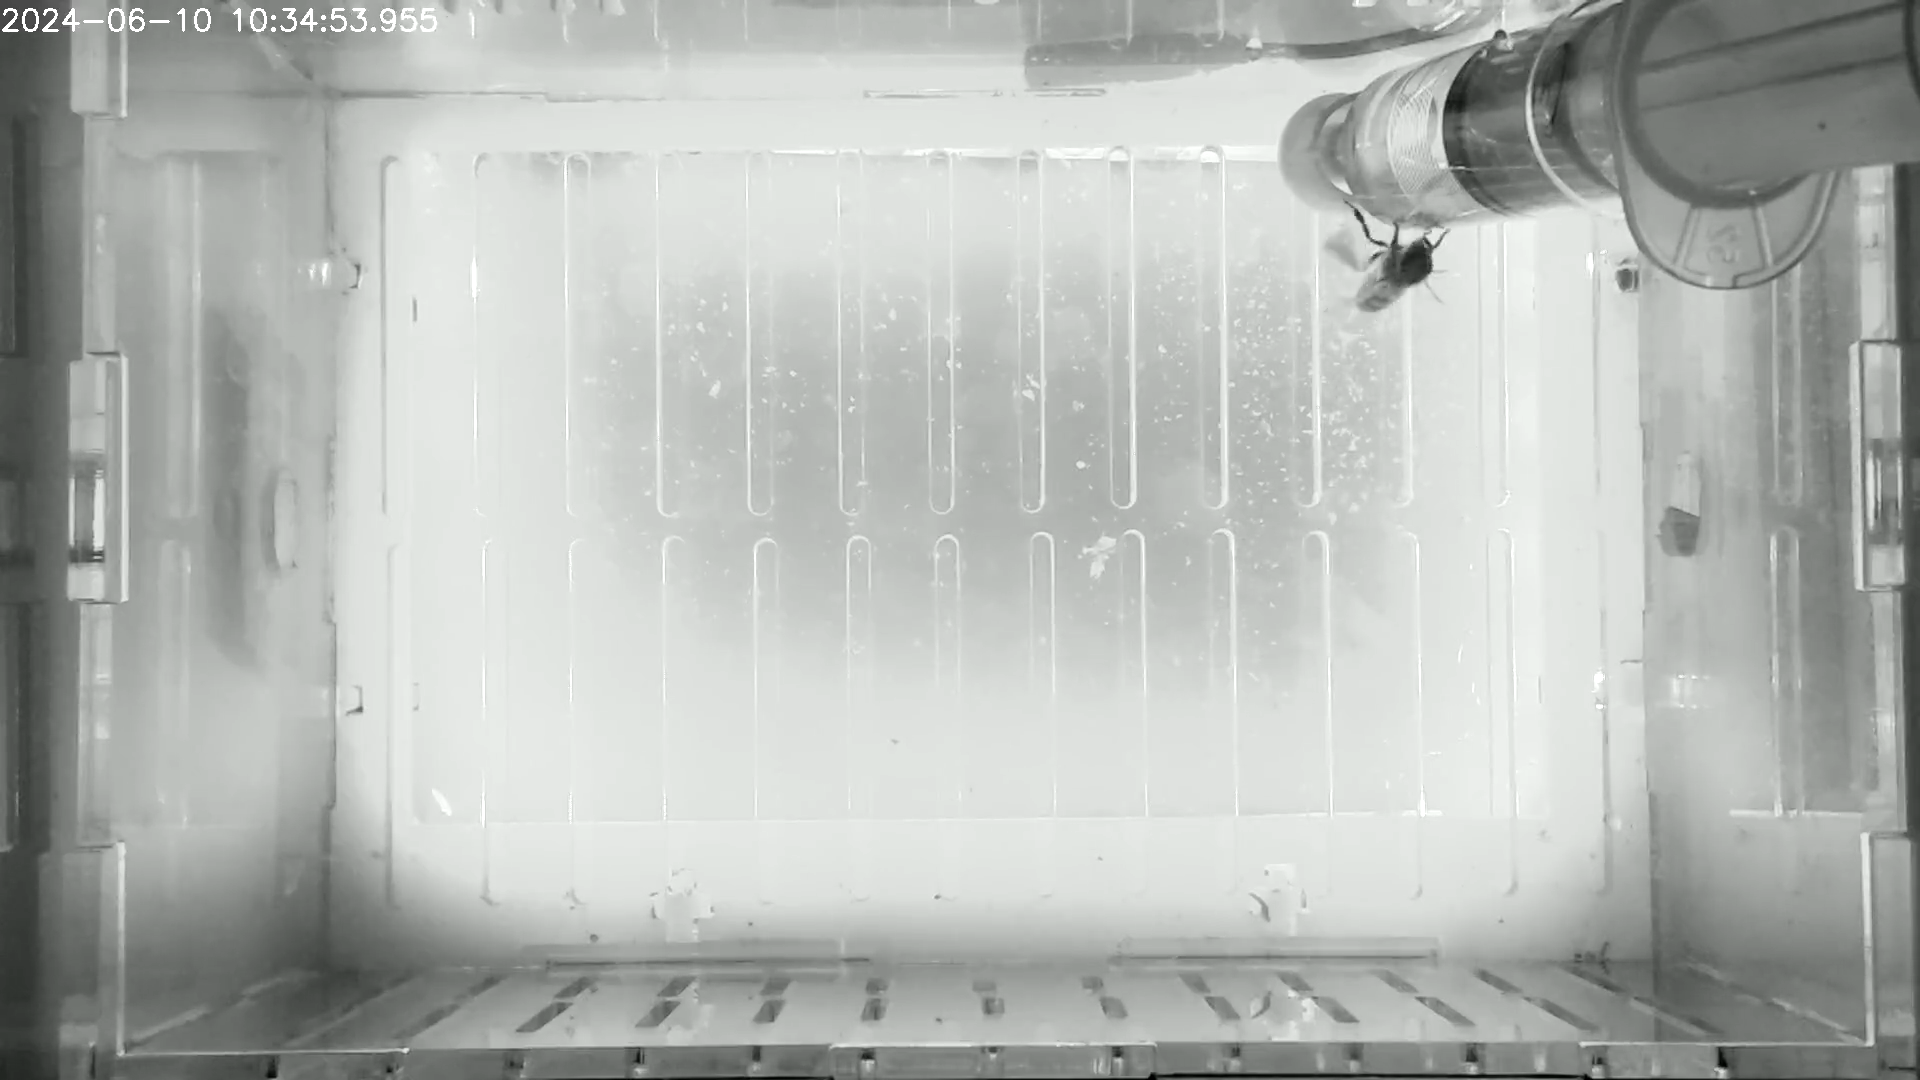bee: (1327, 198, 1462, 320)
feeder: (1331, 22, 1590, 235)
